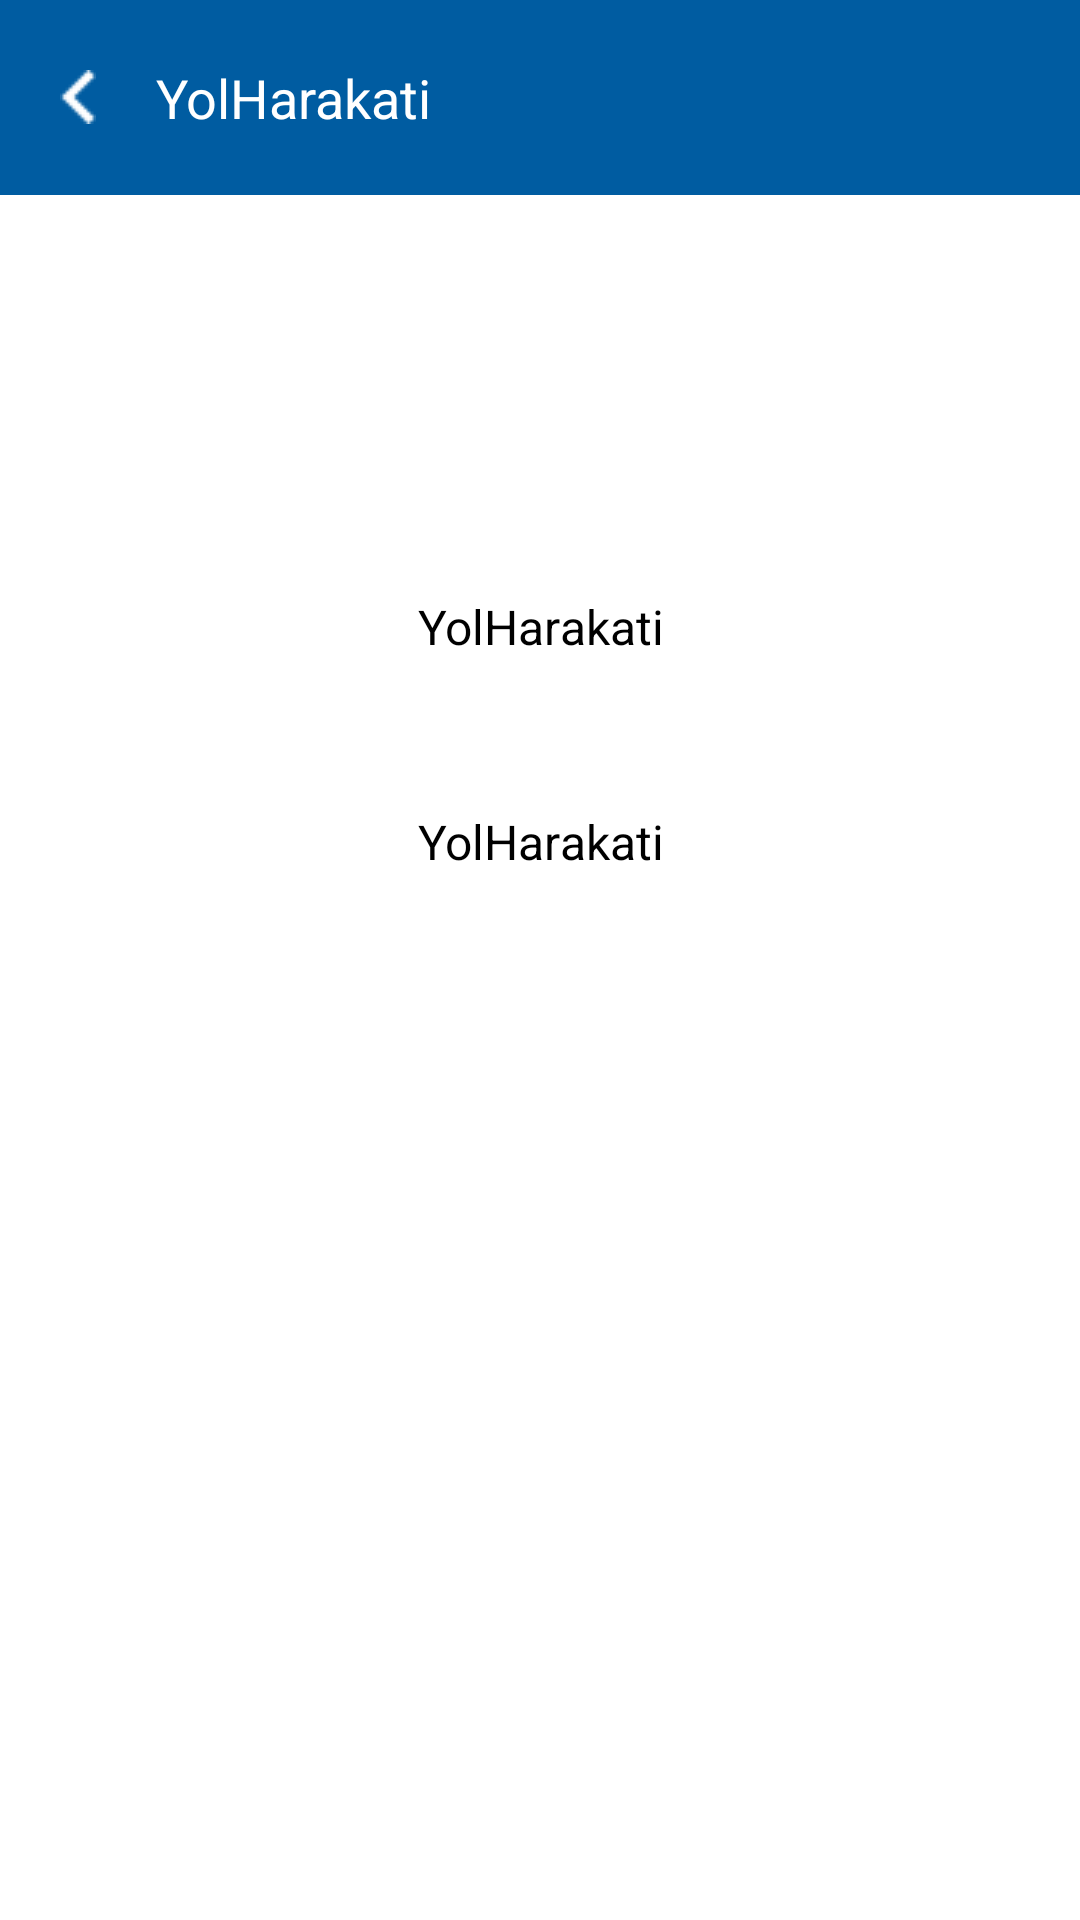

Named icons in this screenshot (1080w x 1920h) and their centers, [x,y]:
back: [78,97]
